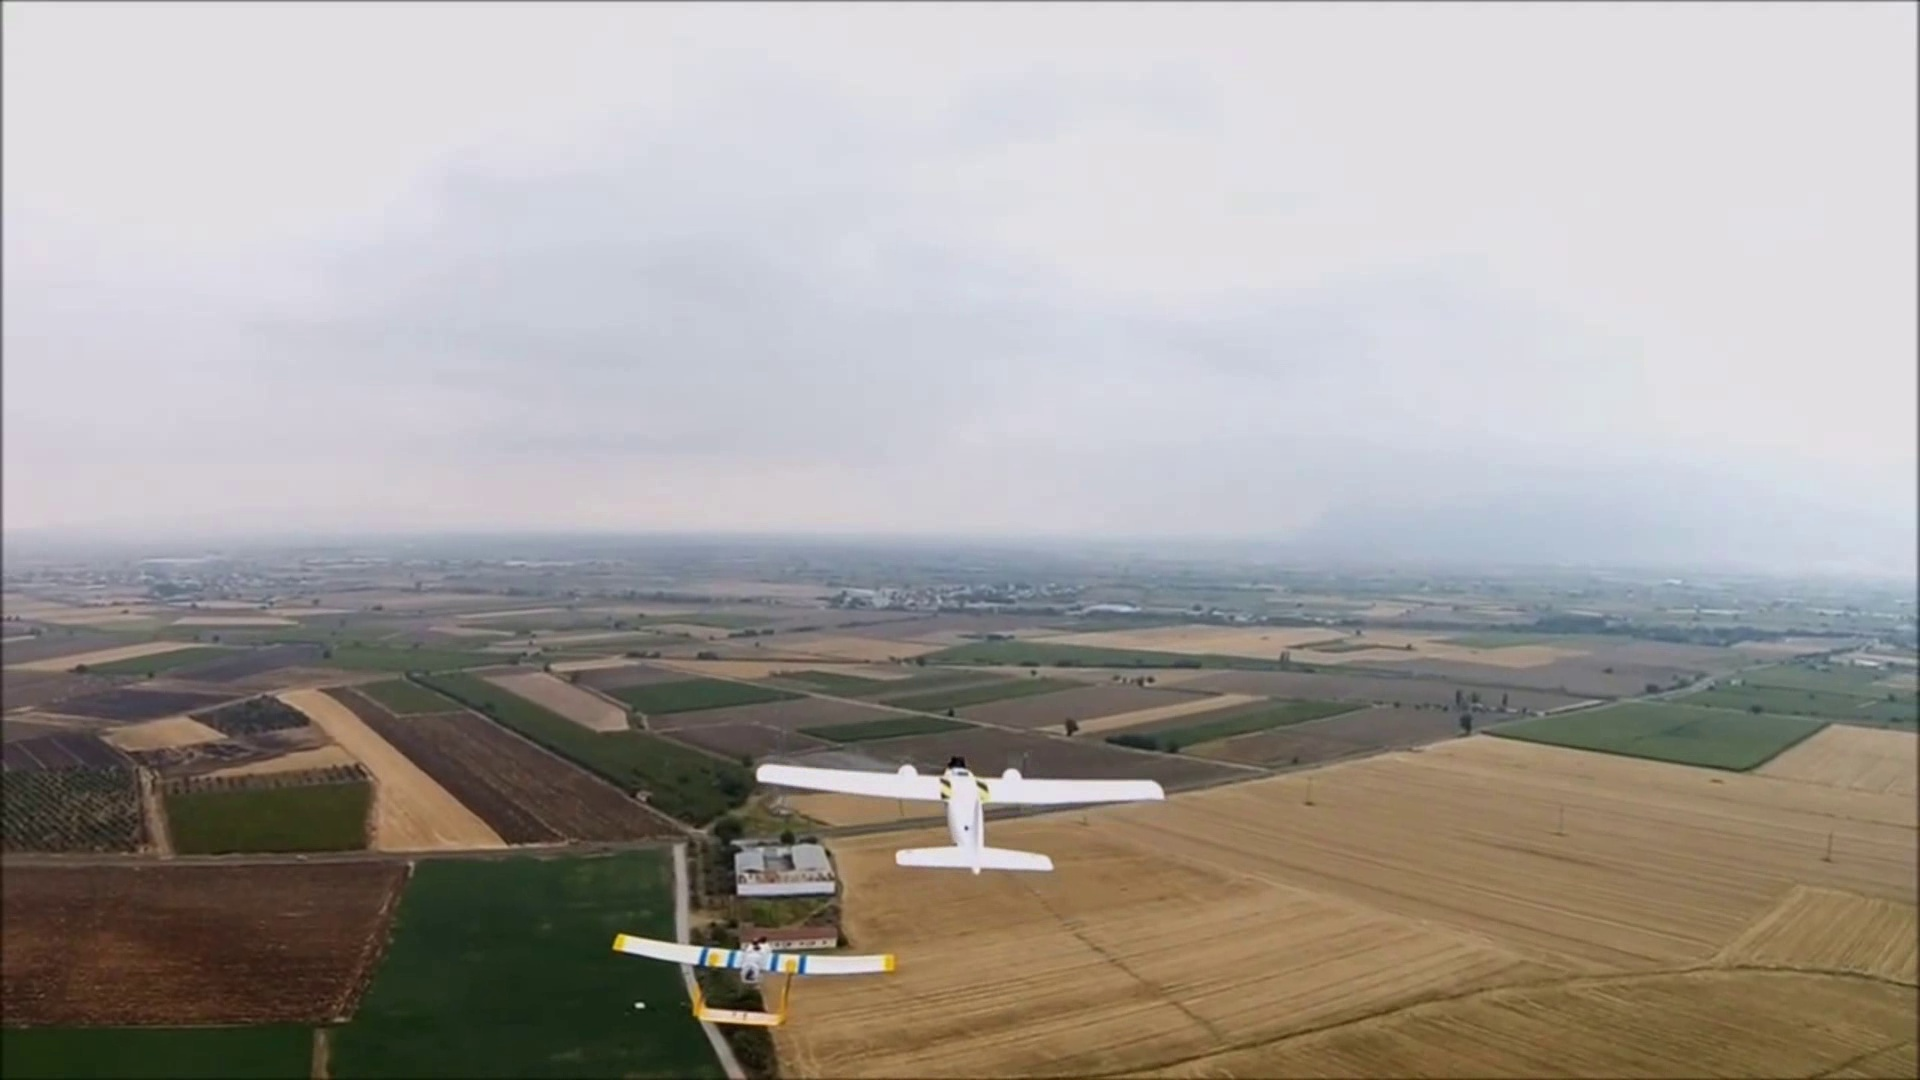airplane: (755, 745, 1167, 824)
